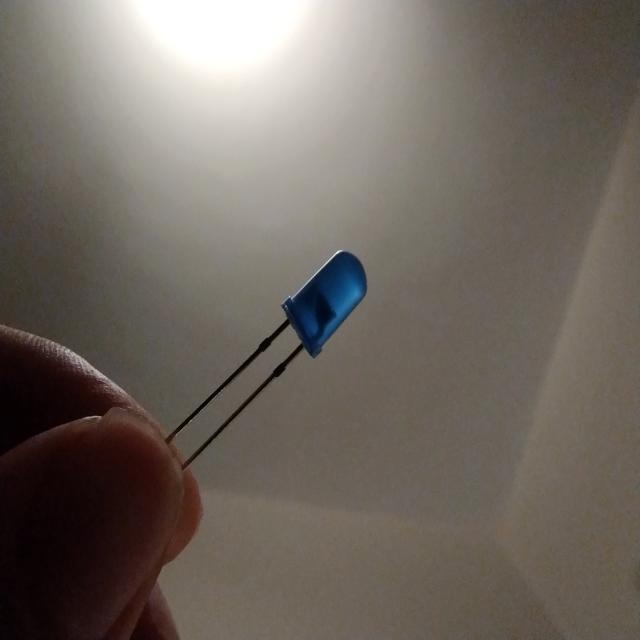blue_led: (280, 248, 369, 360)
